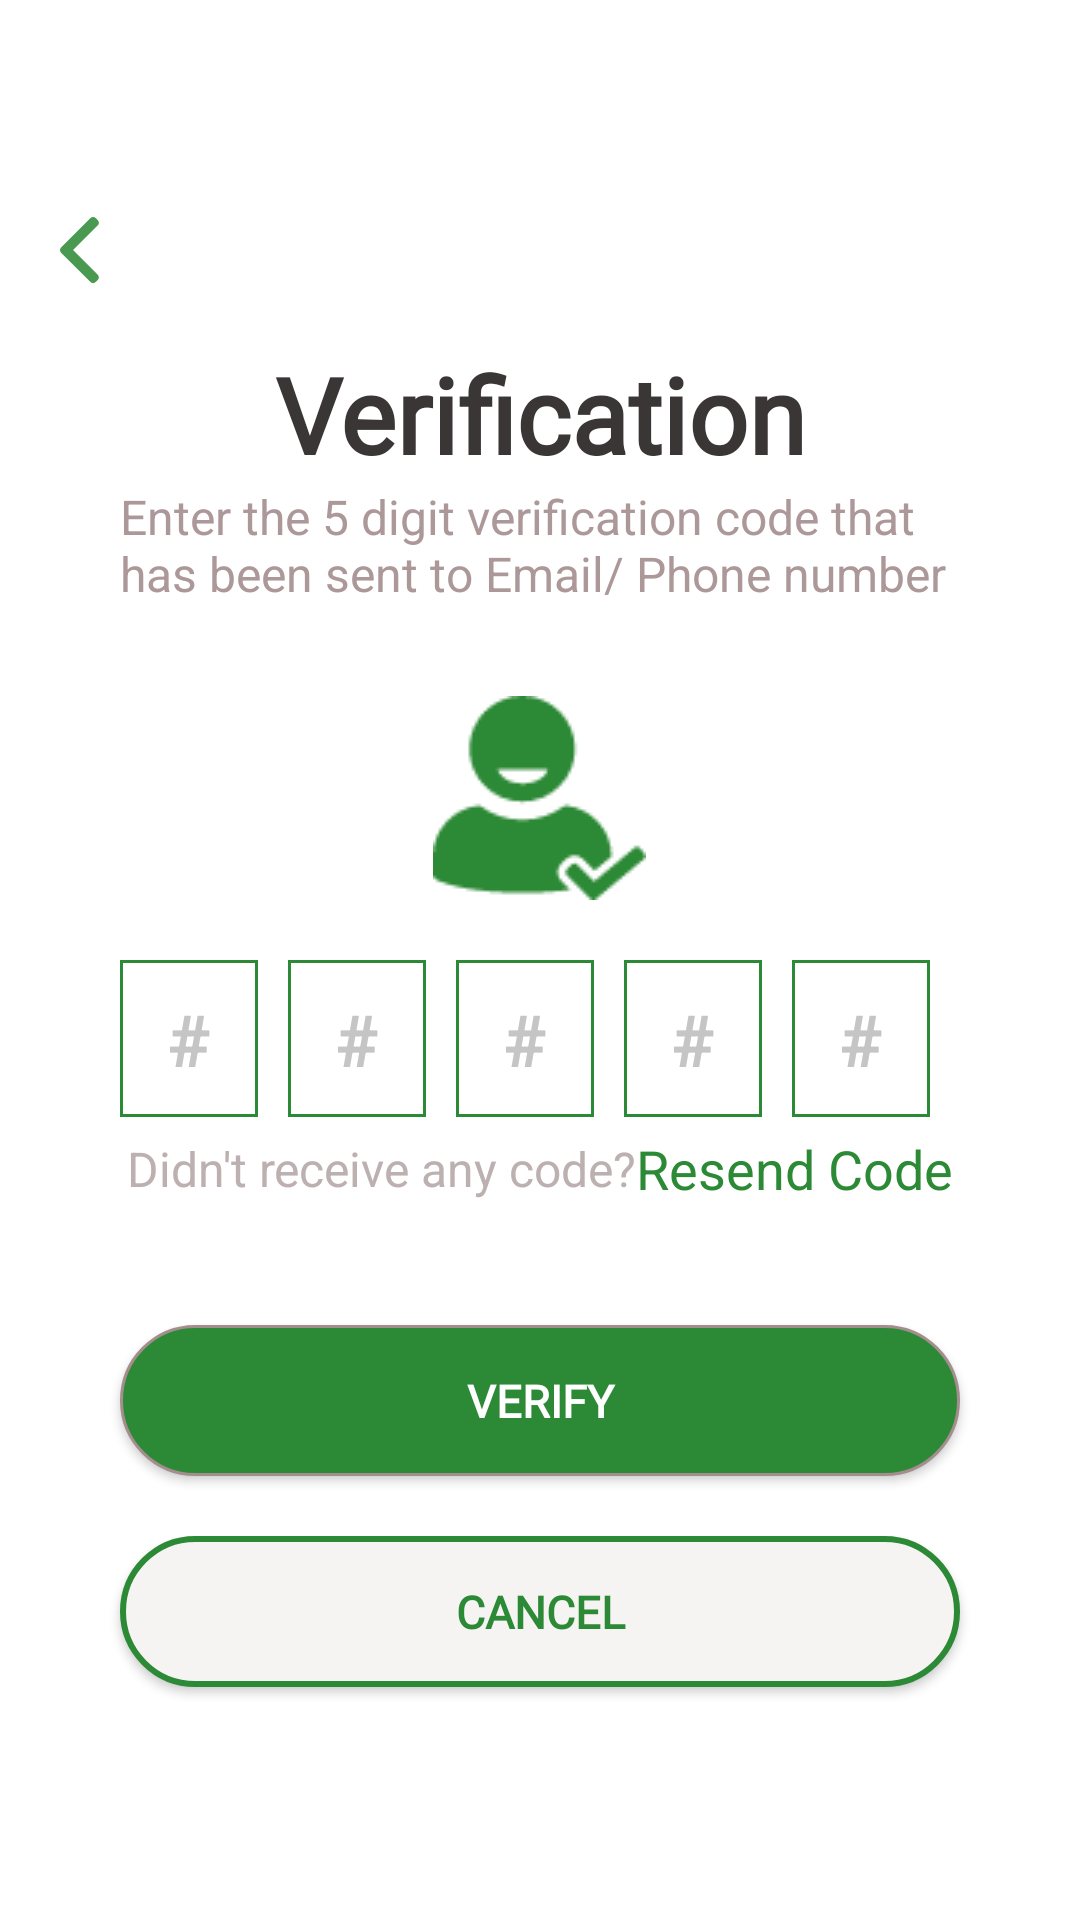

Point at icon controls on the screen. Image size 1080px x 1920px, points as [x,y].
arrow: [79,250]
